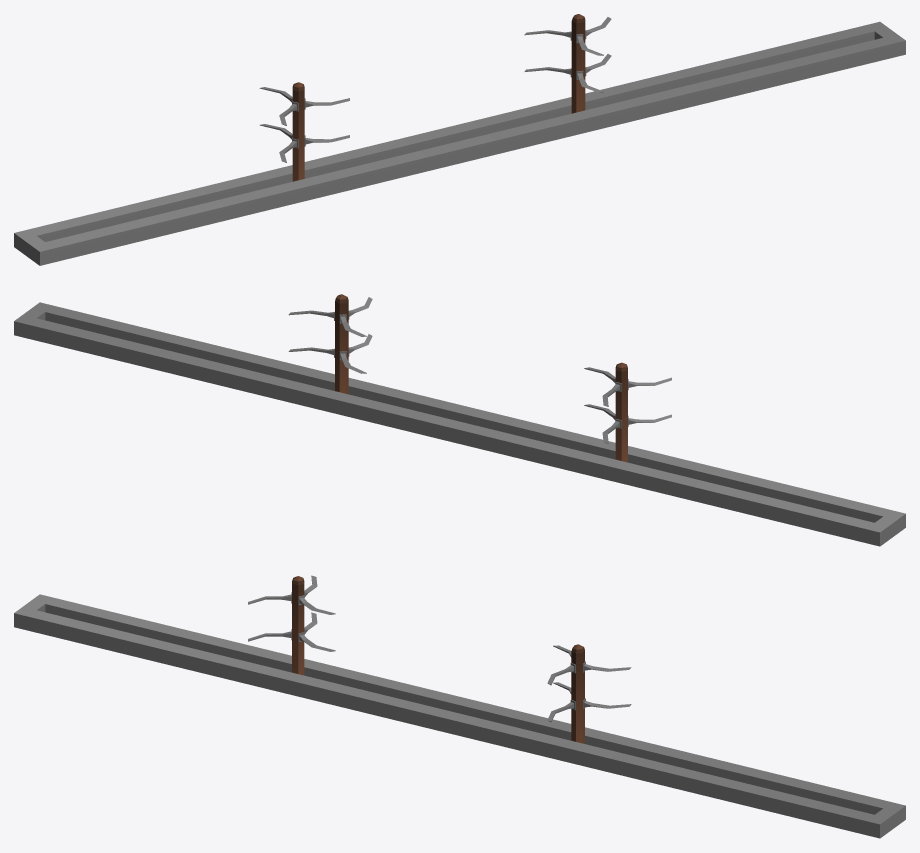
The model's file is Loop_Trap_2.fbx.
3 renders of one model, top to bottom at view 1: azimuth 30°, elevation 25°; view 2: azimuth 150°, elevation 25°; view 3: azimuth 330°, elevation 25°, orthographic.
Visible parts, largest first — view 1: Loop_Trap_2; view 2: Loop_Trap_2; view 3: Loop_Trap_2.
Boxes of the visible parts, x1=… form: Loop_Trap_2: x1=14, y1=14, x2=905, y2=265; Loop_Trap_2: x1=14, y1=294, x2=905, y2=546; Loop_Trap_2: x1=14, y1=575, x2=905, y2=838.
Bounding box in the file's own units: 816 × 97.09 × 85.26.
1 material, 1 textured.
